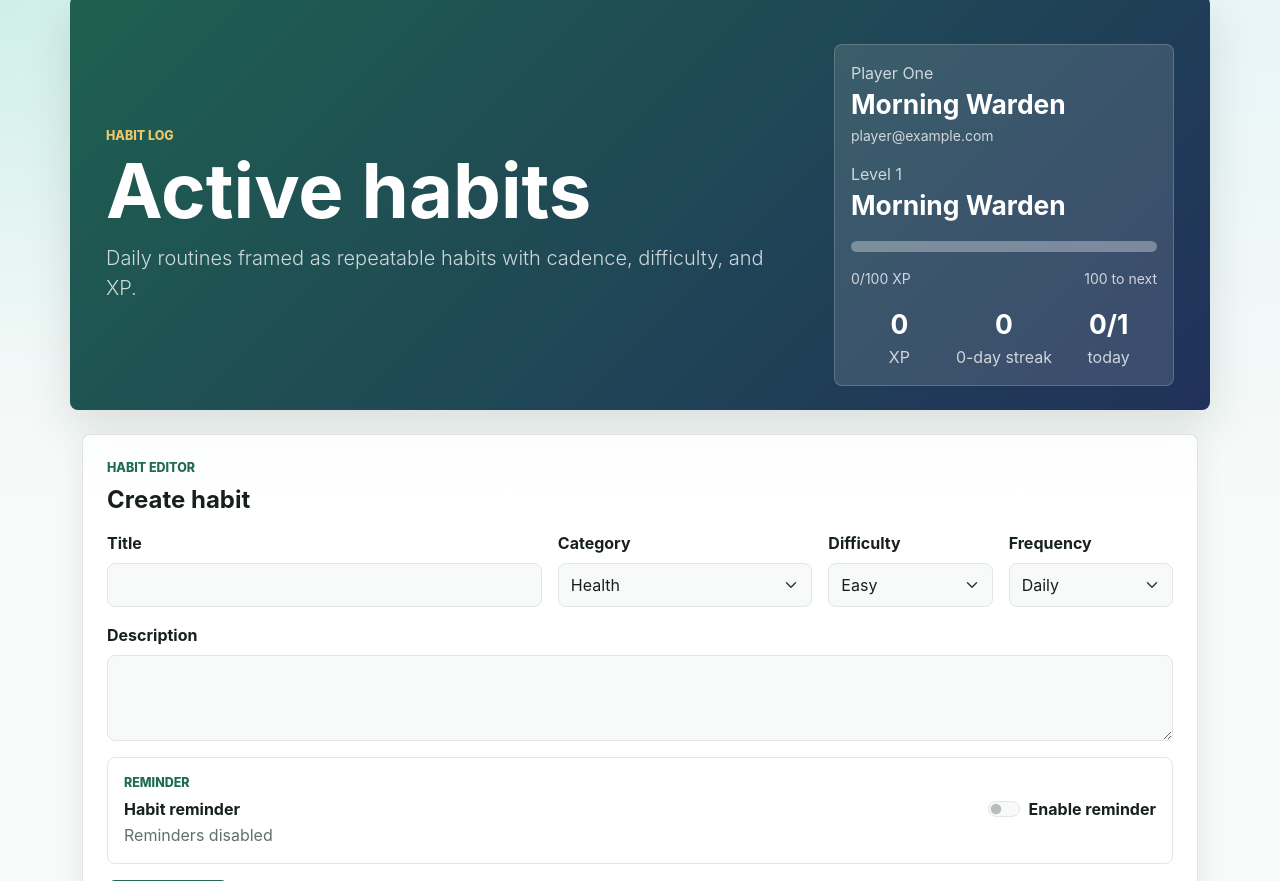
it: Habits API view › shows reminder fields when reminders are enabled
Click the checkbox with test id "reminder-enabled-input": (1004, 810) [988,802,1020,818]
(page scrolled)
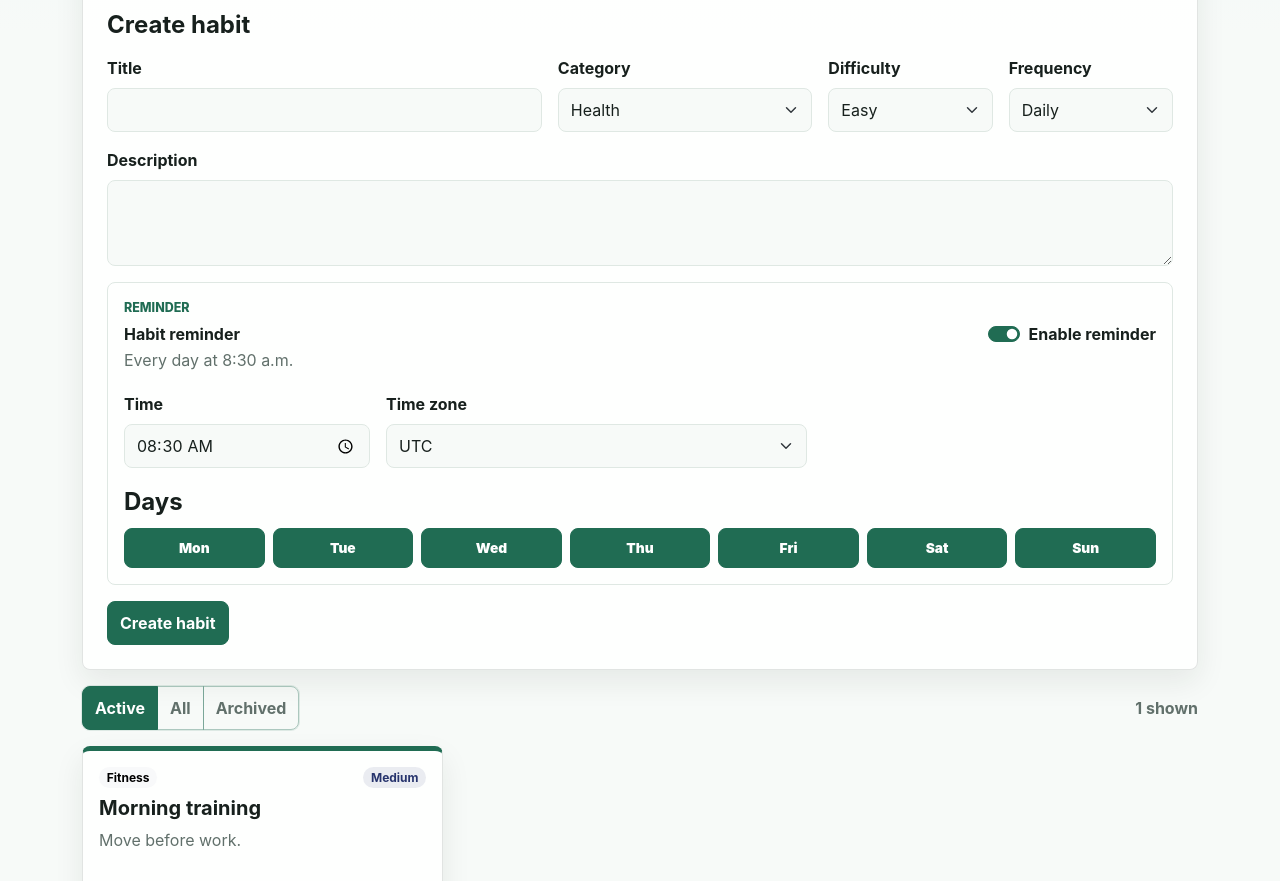
Now the time field with test id "reminder-time-input" is shown, box [124,424,370,468]
Now the text "Every day at 8:30 a.m." is shown, box [124,348,293,372]
